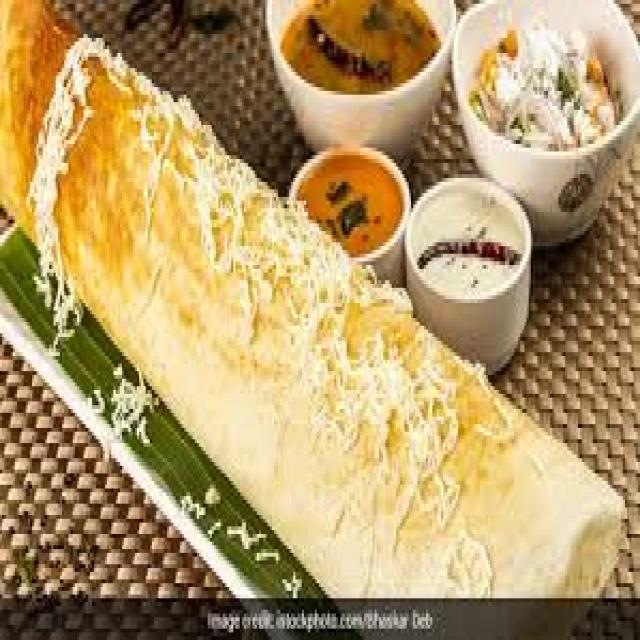Wet Waste: (0, 0, 614, 594), (402, 178, 526, 292)
